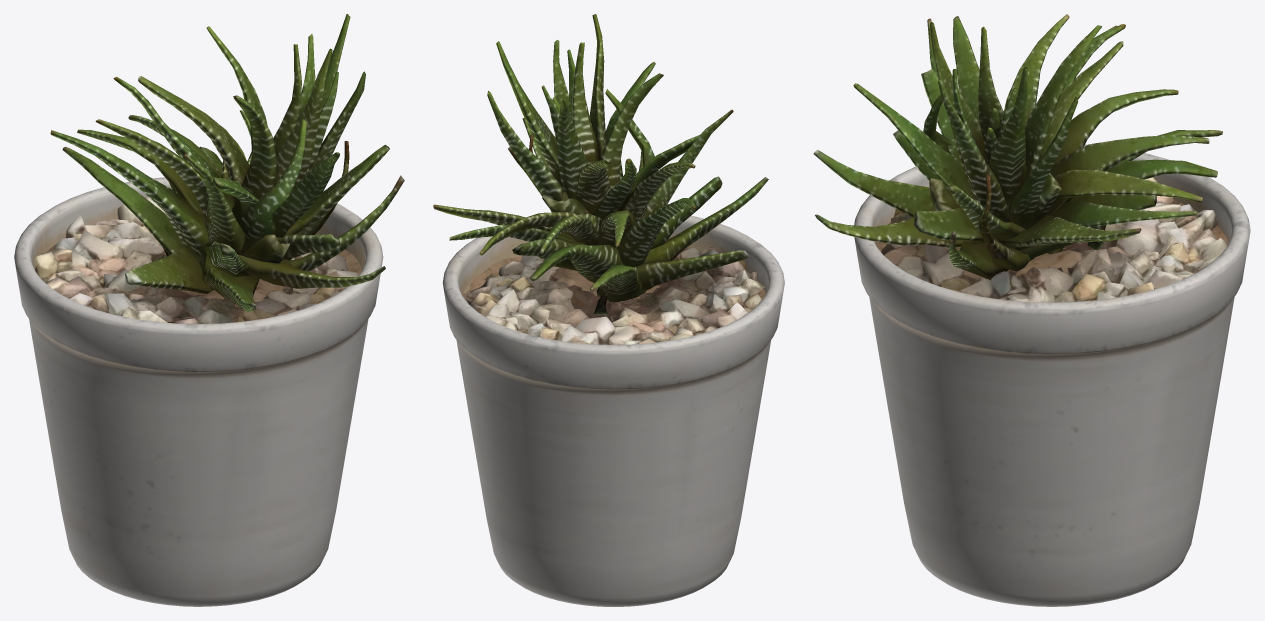
File: potted_plant_04.glb
3 views of the same model, side by side, from view 1: azimuth 30°, elevation 25°; view 2: azimuth 150°, elevation 25°; view 3: azimuth 270°, elevation 25° (orthographic). The views are drawn at different scales.
Visible parts, largest first — view 1: potted_plant_04_ground; view 2: potted_plant_04_ground; view 3: potted_plant_04_ground.
Part boxes in pixels (left/top/right/bottom): potted_plant_04_ground: left=14, top=14, right=404, bottom=606; potted_plant_04_ground: left=433, top=14, right=784, bottom=606; potted_plant_04_ground: left=813, top=14, right=1250, bottom=606.
Size of the model in its own units: 0.1679 by 0.2675 by 0.1847.
Materials: 1 (1 with a texture image).
